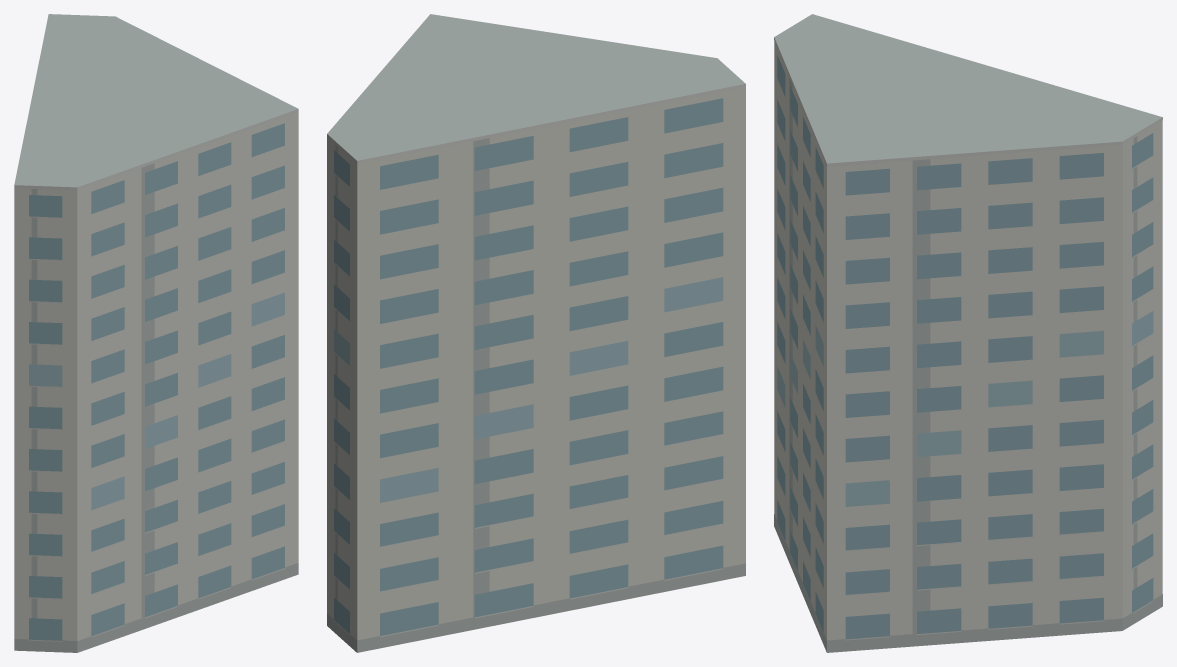
Rendered from residential-c1057356-e102-43bc-a288-e9178cf3afd2.glb.
3 views of the same model, side by side, from view 1: azimuth 30°, elevation 25°; view 2: azimuth 150°, elevation 25°; view 3: azimuth 270°, elevation 25° (orthographic). The views are drawn at different scales.
Visible parts, largest first — view 1: residential-c1057356-e102-43bc-a288-e9178cf3afd2.tmp; view 2: residential-c1057356-e102-43bc-a288-e9178cf3afd2.tmp; view 3: residential-c1057356-e102-43bc-a288-e9178cf3afd2.tmp.
Part boxes in pixels (bbox=[...]): residential-c1057356-e102-43bc-a288-e9178cf3afd2.tmp: bbox=[14, 14, 298, 652]; residential-c1057356-e102-43bc-a288-e9178cf3afd2.tmp: bbox=[327, 14, 745, 652]; residential-c1057356-e102-43bc-a288-e9178cf3afd2.tmp: bbox=[774, 14, 1162, 652].
Bounding box in the file's own units: 23.6 × 36 × 25.91.
